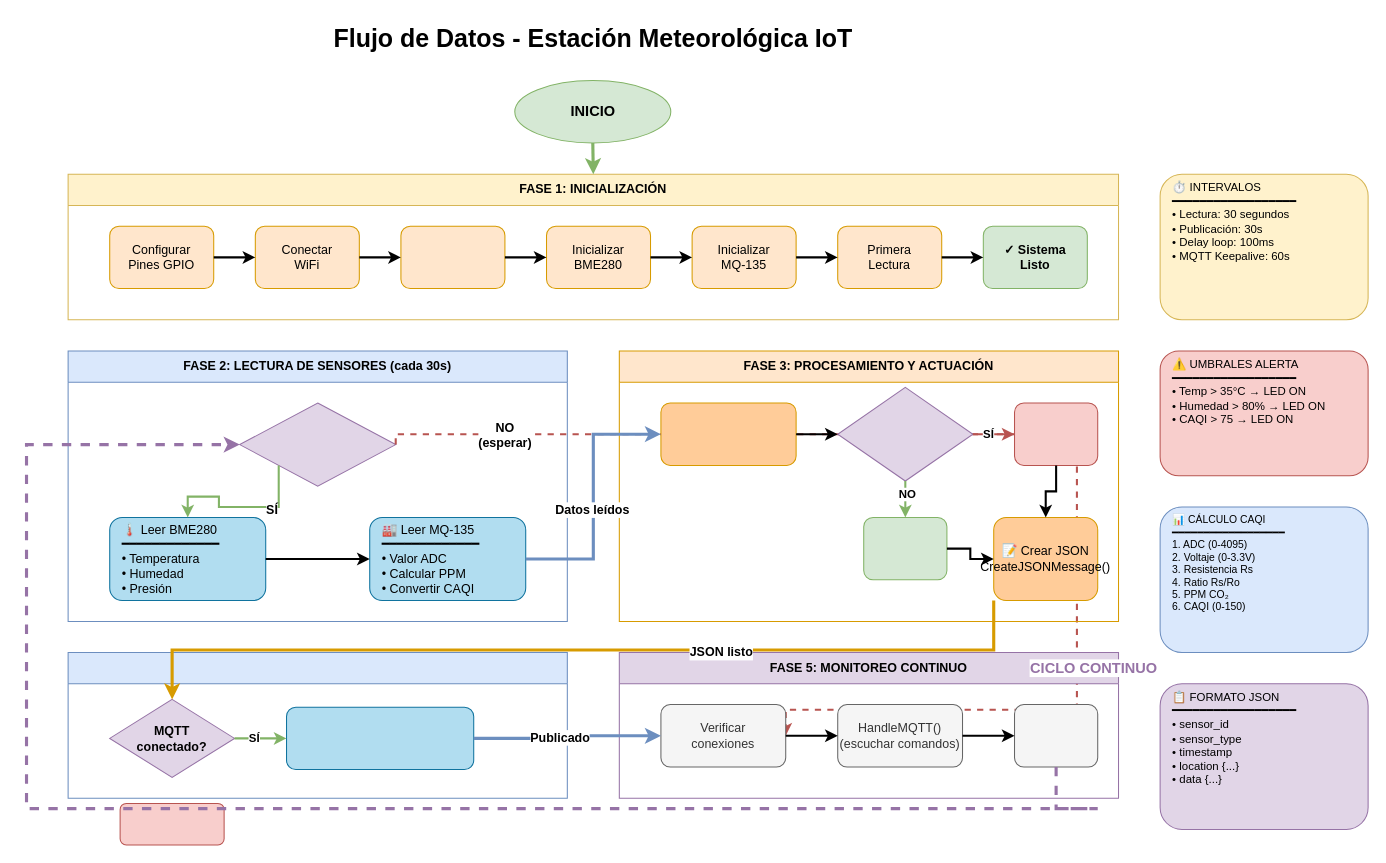
Image size: 1386x863. Some labels were removed from this diagram. Here are the shapes that lost their labels. From the top down, the box of each, then its label:
(400, 225, 505, 289): Conectar MQTT
(239, 402, 396, 486): Timer 30s transcurrido?
(660, 402, 796, 465): Validar Datos (rangos esperados)
(837, 386, 973, 481): ¿Supera umbrales?
(1013, 402, 1098, 465): 🔴 LED ON (ALERTA)
(863, 516, 947, 580): LED OFF (NORMAL)
(67, 652, 567, 798): FASE 4: TRANSMISIÓN MQTT
(285, 706, 474, 770): 📤 PUBLISH uah/alcala/weather/data
(1013, 704, 1098, 767): delay(100ms)
(119, 802, 224, 845): ⚠️ Reconectar
